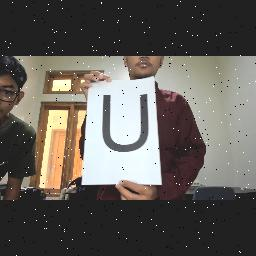u: (97, 91, 155, 159)
